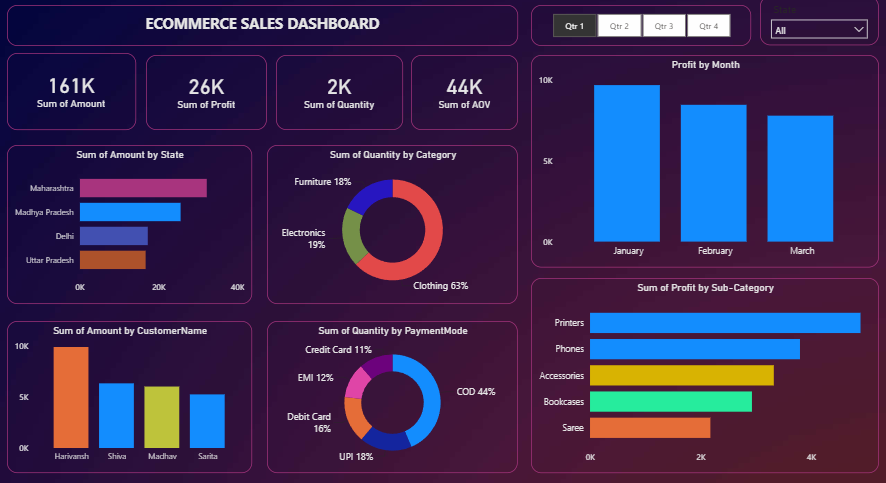

Layout of this report page (visuals, bound fields, positions):
{"tool":"powerbi","page":{"name":"Page 1","canvas":[1280,720],"ordinal":0},"visuals":[{"type":"textbox","box":[10.1,13,735.8,59],"z":0},{"type":"columnChart","title":"Profit by Month","fields":{"Y":["Sum(Details.Profit)"],"Category":["Orders.Order Date.Variation.Date Hierarchy.Month"]},"box":[764.3,84.3,501.4,305.7],"z":1000},{"type":"barChart","fields":{"Category":["Details.Sub-Category"],"Y":["Sum(Details.Profit)"]},"box":[764.3,405.7,501.4,281.4],"z":2000},{"type":"donutChart","fields":{"Category":["Details.Category"],"Y":["Sum(Details.Quantity)"]},"box":[384.3,214.3,361.4,228.6],"z":3000},{"type":"donutChart","fields":{"Category":["Details.PaymentMode","Details.Category"],"Y":["Sum(Details.Quantity)"]},"box":[384.5,468,361.4,218.9],"z":4000},{"type":"cardVisual","fields":{"Data":["Sum(Details.Amount)"]},"box":[10.1,82.1,185.8,110.9],"z":5000},{"type":"cardVisual","fields":{"Data":["Sum(Details.Profit)"]},"box":[210.2,85,174.2,108],"z":6000},{"type":"cardVisual","fields":{"Data":["Sum(Details.Quantity)"]},"box":[397.4,85,182.9,108],"z":7000},{"type":"cardVisual","fields":{"Data":["Sum(Details.AOV)"]},"box":[591.8,85,154.1,108],"z":8000},{"type":"barChart","fields":{"Y":["Sum(Details.Amount)"],"Category":["Orders.State"]},"box":[10,214.3,352.9,228.6],"z":9000},{"type":"columnChart","fields":{"Category":["Orders.CustomerName"],"Y":["Sum(Details.Amount)"]},"box":[10.1,468,352.8,218.9],"z":10000},{"type":"slicer","fields":{"Values":["Orders.Order Date.Variation.Date Hierarchy.Quarter"]},"box":[764.3,12.9,317.1,58.6],"z":11000},{"type":"slicer","fields":{"Values":["Orders.State"]},"box":[1094.3,0,171.4,71.4],"z":12000}]}

Visuals, with their boxes on the page's 1280x720 design canvas (x1, y1, x2, y2). These are canvas units, not pixel positions in the 886x483 screenshot, which may show the page scaled, cropped or inside an application window:
textbox: (10, 13, 746, 72)
"Profit by Month" columnChart: (764, 84, 1266, 390)
barChart - Details.Sub-Category x Sum(Details.Profit): (764, 406, 1266, 687)
donutChart - Details.Category x Sum(Details.Quantity): (384, 214, 746, 443)
donutChart - Details.PaymentMode x Details.Category: (384, 468, 746, 687)
cardVisual - Sum(Details.Amount): (10, 82, 196, 193)
cardVisual - Sum(Details.Profit): (210, 85, 384, 193)
cardVisual - Sum(Details.Quantity): (397, 85, 580, 193)
cardVisual - Sum(Details.AOV): (592, 85, 746, 193)
barChart - Sum(Details.Amount) x Orders.State: (10, 214, 363, 443)
columnChart - Orders.CustomerName x Sum(Details.Amount): (10, 468, 363, 687)
slicer - Orders.Order Date.Variation.Date Hierarchy.Quarter: (764, 13, 1081, 72)
slicer - Orders.State: (1094, 0, 1266, 71)
